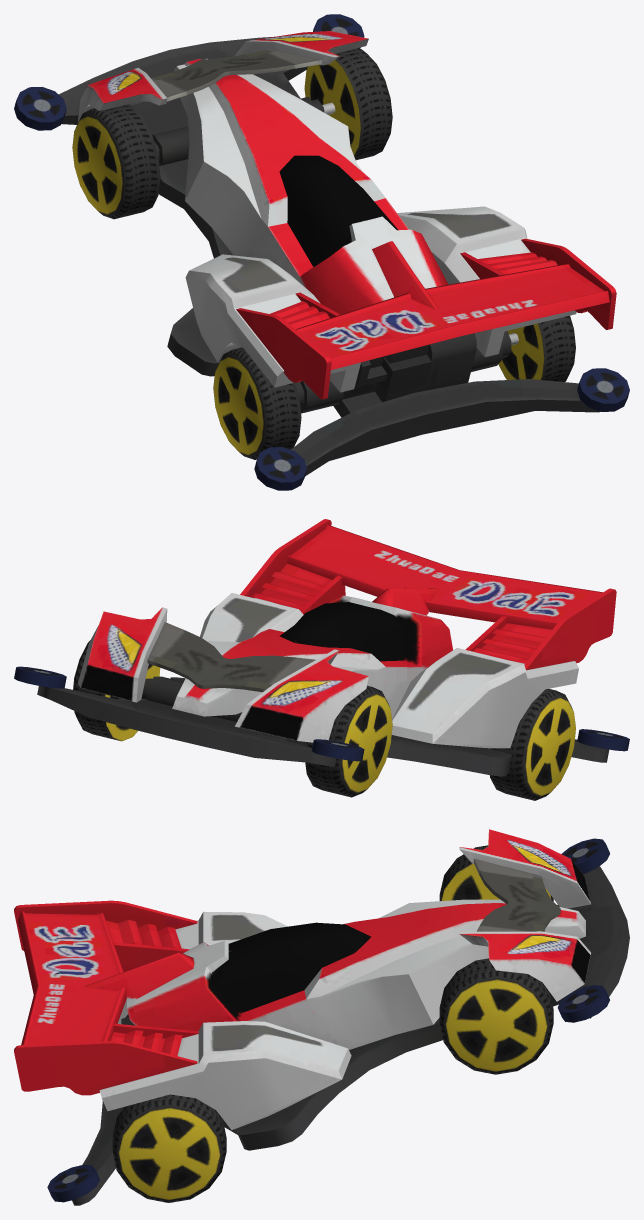
File: GTRaceCar.obj
3 renders of one model, top to bottom at view 1: azimuth 30°, elevation 25°; view 2: azimuth 150°, elevation 25°; view 3: azimuth 270°, elevation 25°, orthographic.
Parts seen in each view (by area): view 1: siQuChe; view 2: siQuChe; view 3: siQuChe.
Part boxes in pixels (x1,y1,x2,y2): siQuChe: (14,14,629,490); siQuChe: (14,519,629,800); siQuChe: (14,829,629,1205).
Bounding box in the file's own units: 1.69 × 1.04 × 2.44.
